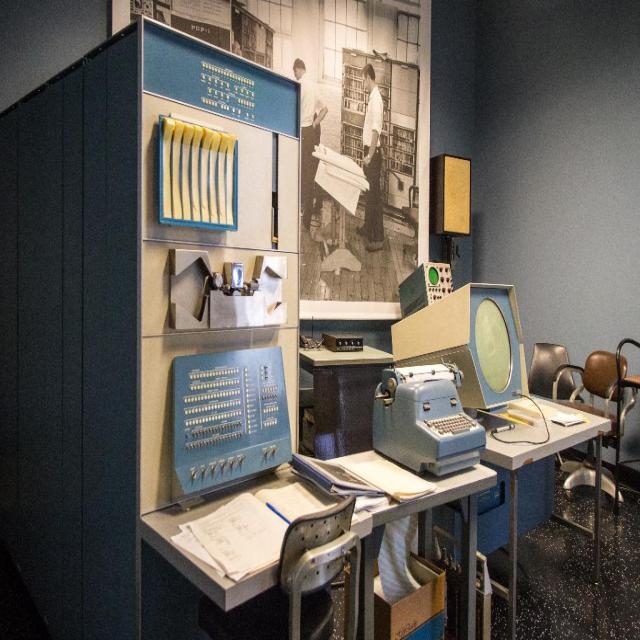chair: (559, 346, 639, 521)
desk: (468, 392, 610, 639)
person: (360, 59, 386, 251)
